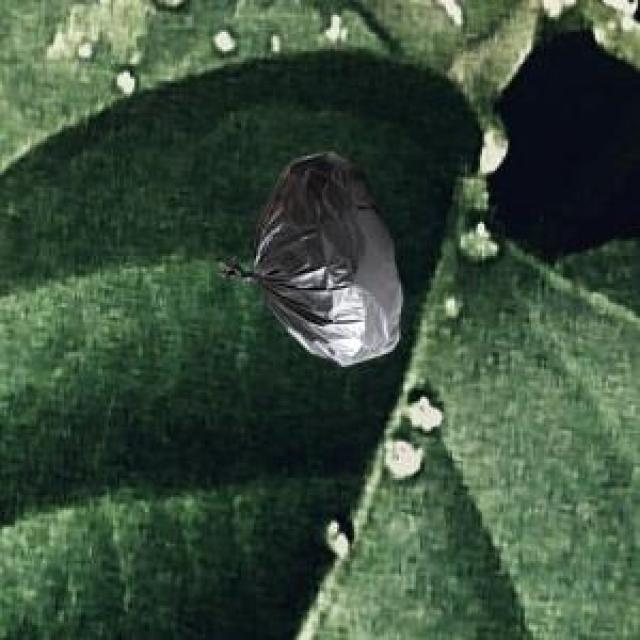waste: (254, 154, 402, 366)
